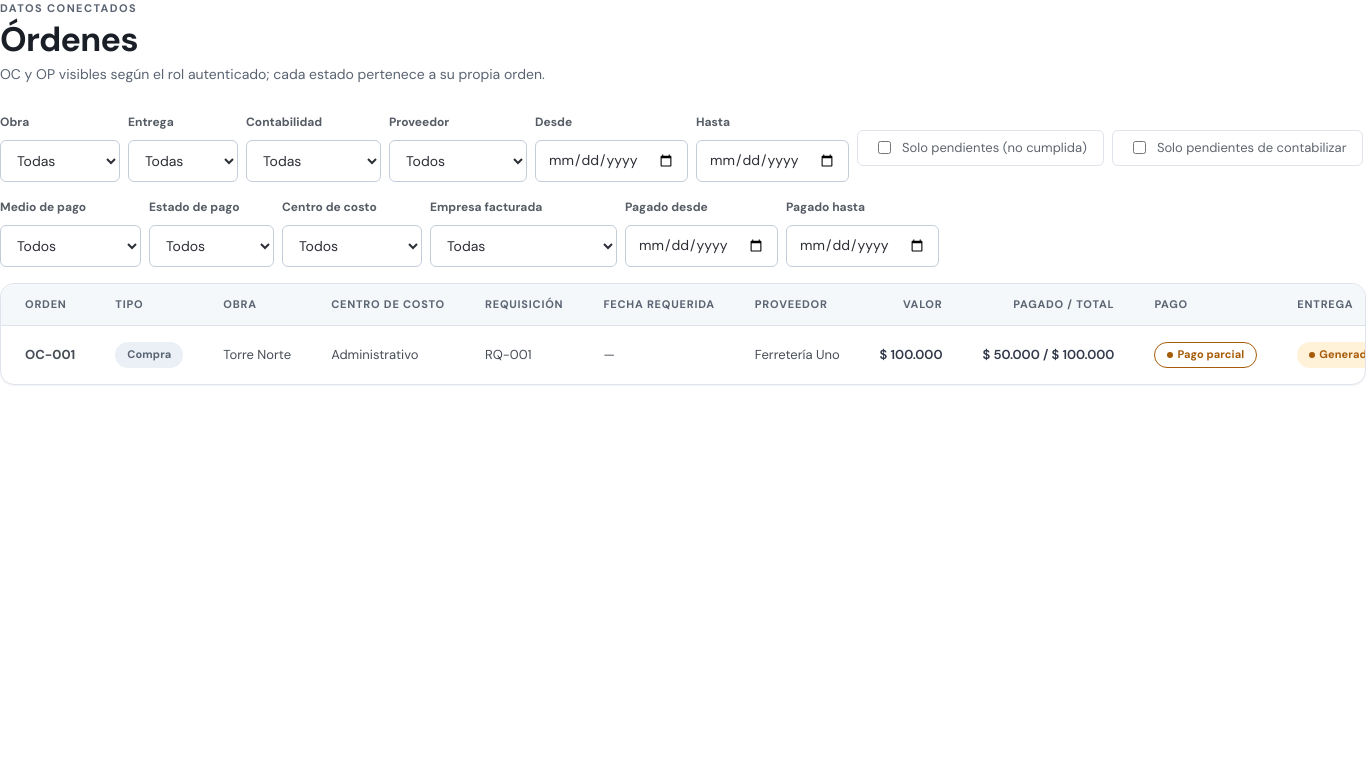
Test: "Pagar saldo" sustituye a "Marcar pagada" mientras haya saldo (A3) › con la orden contabilizada abre el diálogo prellenado con el saldo y, al cubrirlo, encadena adminStatus=pagada
Click the text "OC-001" at (50, 354), box [25,346,75,363]
(page scrolled)
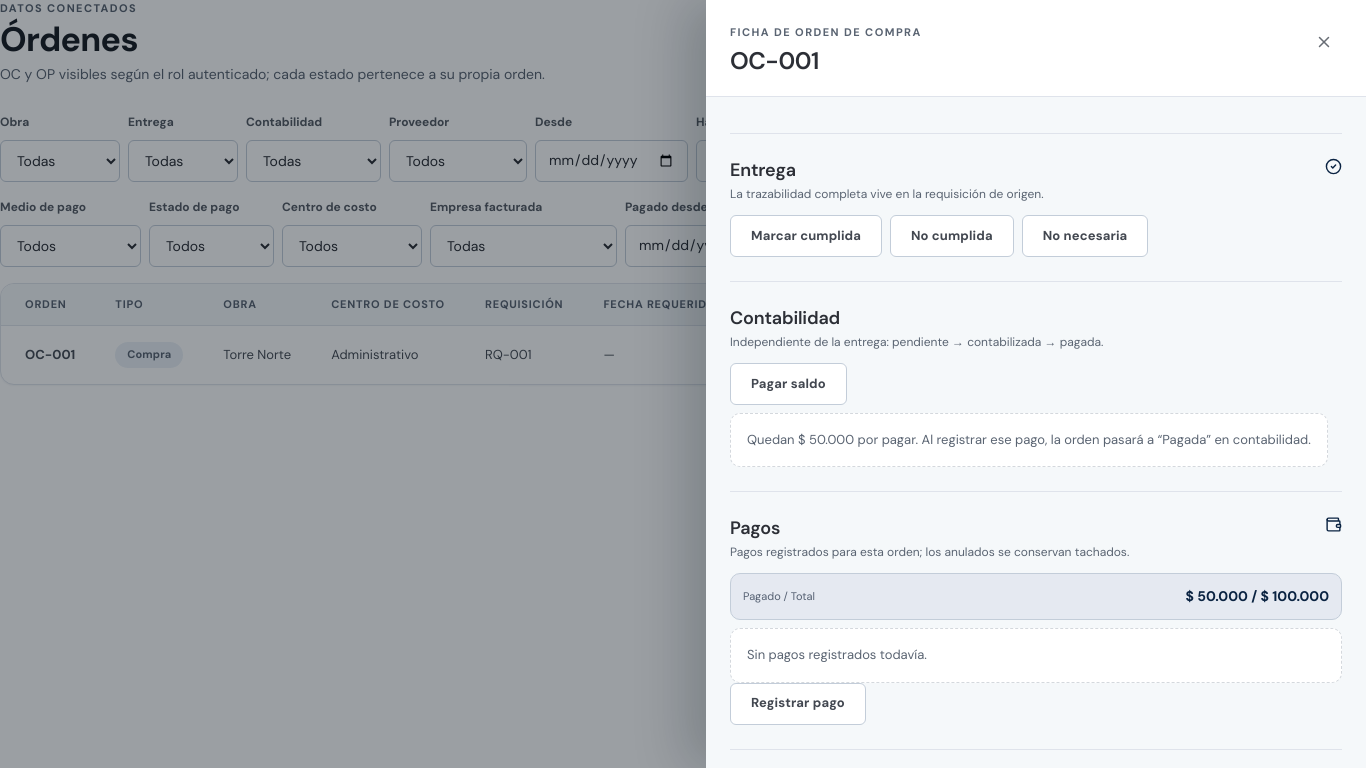
expect the dialog "OC-001" is shown: met, box [706,0,1365,767]
Click the button "Pagar saldo" at (788, 384), box [730,363,847,405]
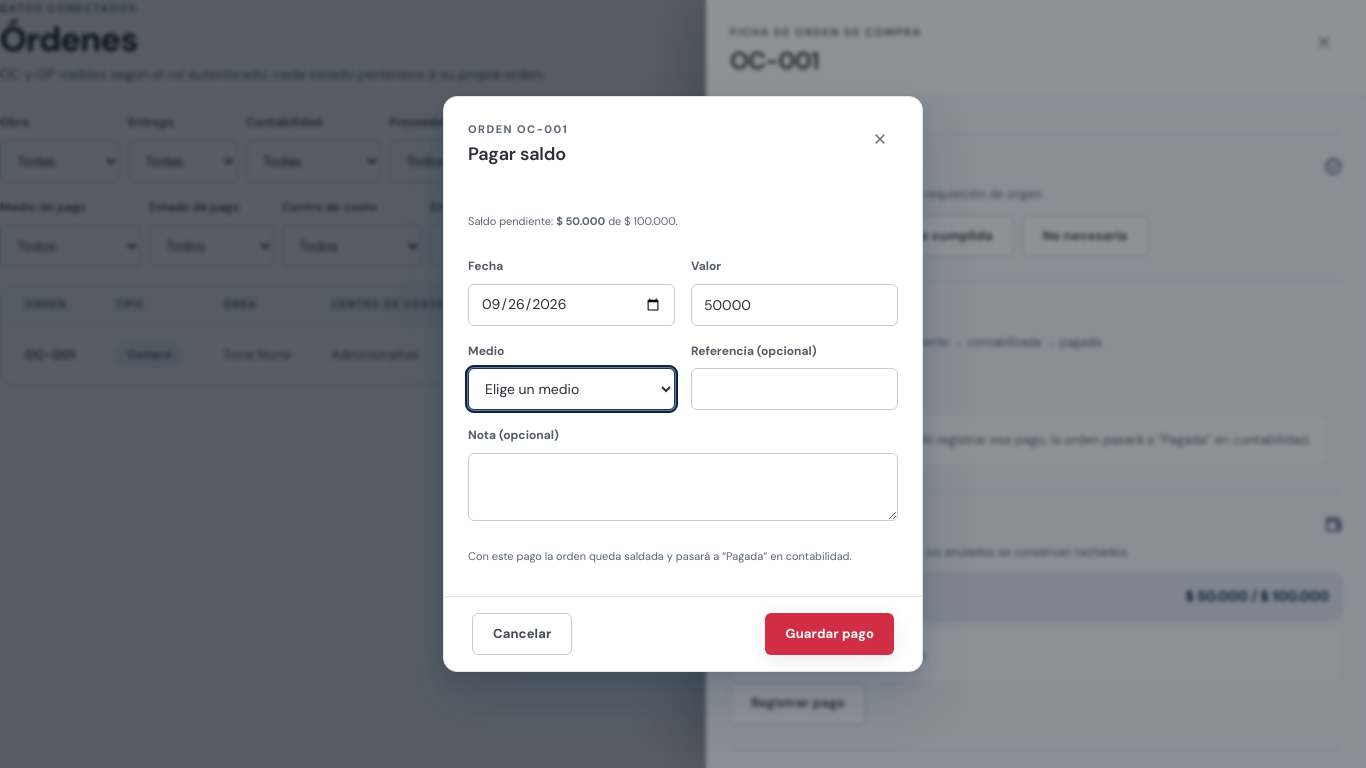
expect the number field labelled "Valor" holds "50000": met, box [691,284,898,326]
expect the text "pasará a “Pagada” en contabilidad" is shown: met, box [468,549,852,563]
Select "Transferencia" in the dropdown labelled "Medio" at (572, 389), box [468,368,675,410]
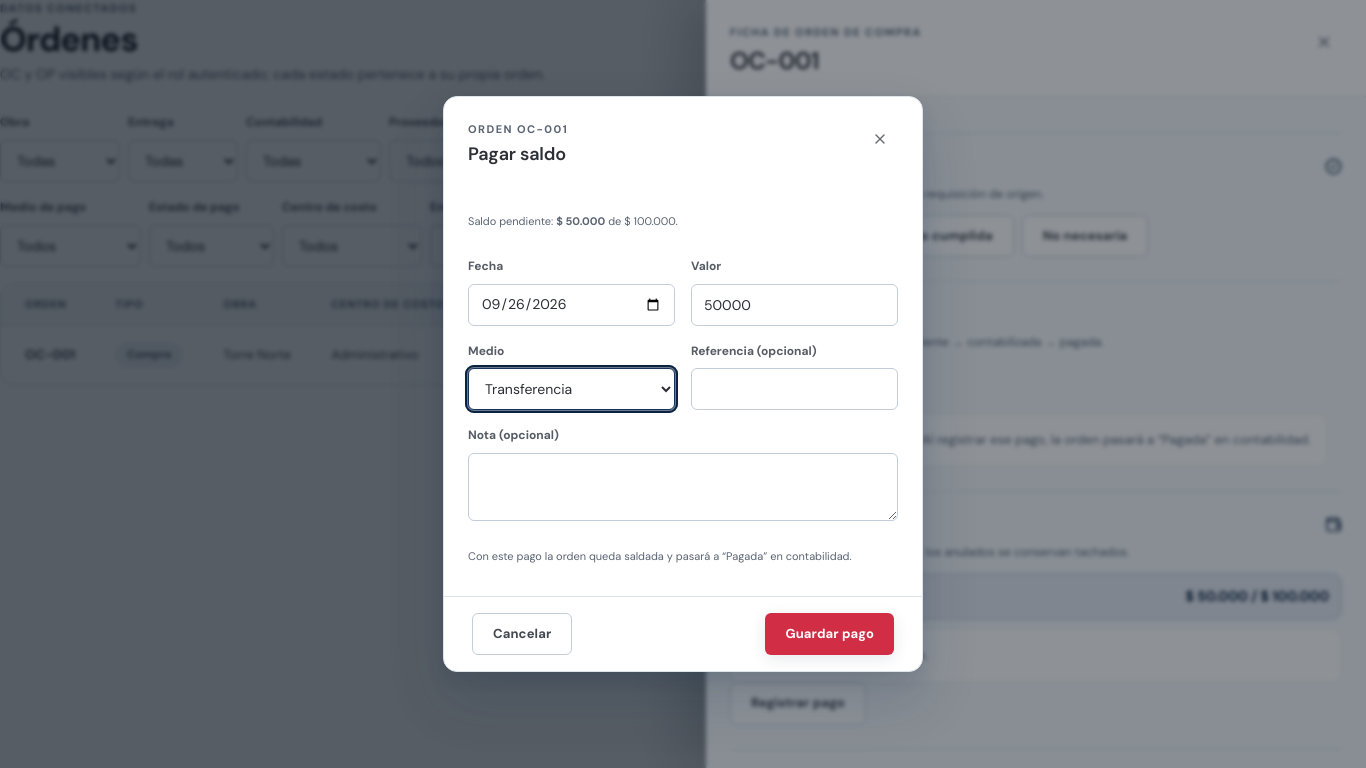
Click the button "Guardar pago" at (830, 634), box [765,613,894,655]
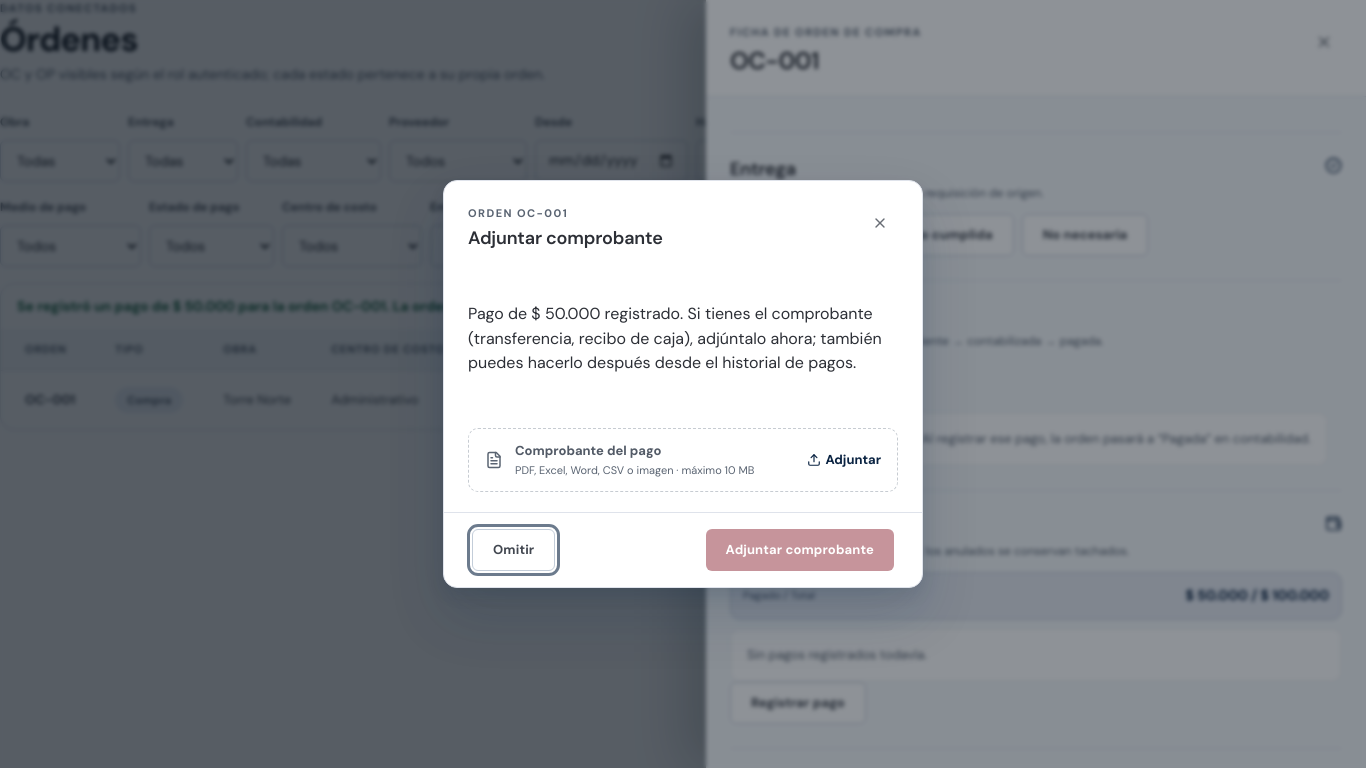
expect the text "quedó como \"Pagada\" en contabilidad" is shown: met, box [17,297,720,315]
